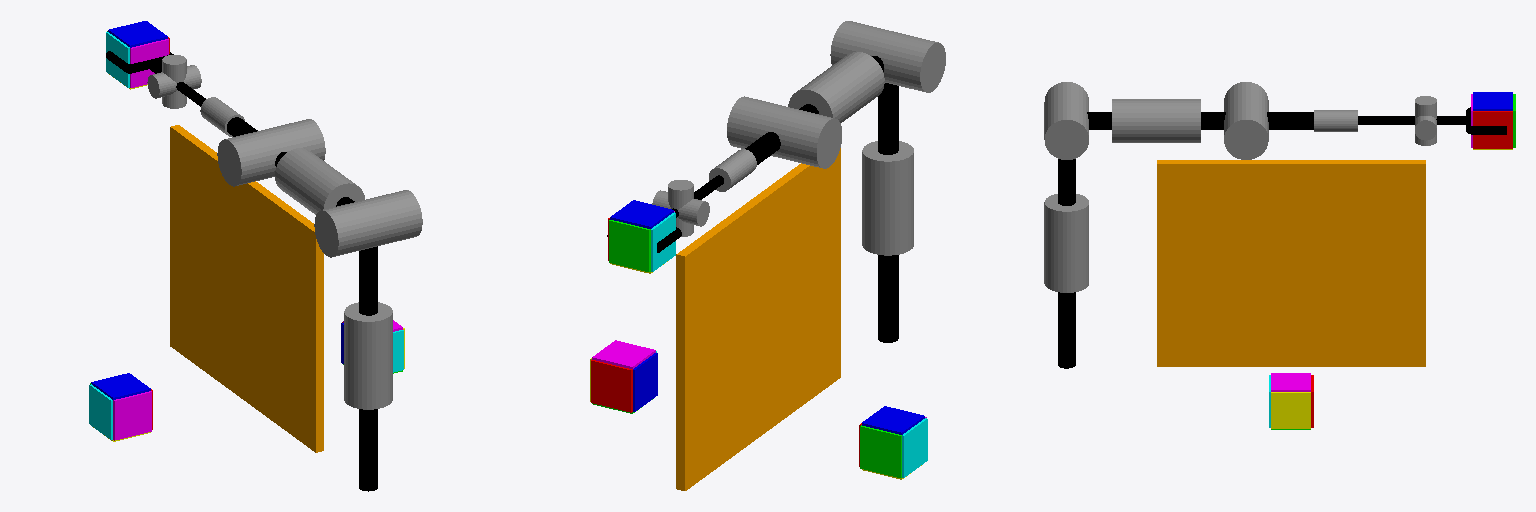
--- What the picture shows (computed from the rendered views, not written in the file) ---
Views: 3 orthographic renders of the robot side by side, from view 1: azimuth 30°, elevation 25°; view 2: azimuth 150°, elevation 25°; view 3: azimuth 270°, elevation 25°.
Robot: sevenDOF — 51 links, 50 joints (7 continuous, 43 fixed); root link world; default pose: every joint at zero.
Links seen in each view (by area): view 1: wall, motor2, motor1, motor4, motor3, rcub-ym, mount1, mount2, rcub-xm, cube-ym, rcub-zp, cube-zp (+4 smaller); view 2: wall, motor1, motor4, motor2, motor3, lcub-xp, rcub-yp, cube-yp, mount1, mount2, rcub-xm, lcub-zp (+8 smaller); view 3: wall, motor1, motor3, motor2, motor4, lcub-zm, mount1, cube-xp, motor5, mount5, mount2, cube-zp (+2 smaller).
Link boxes in pixels (bbox=[...]): wall: bbox=[170, 125, 323, 452]; motor2: bbox=[314, 190, 422, 257]; motor1: bbox=[344, 302, 392, 409]; motor4: bbox=[217, 119, 325, 186]; motor3: bbox=[275, 148, 364, 214]; rcub-ym: bbox=[113, 391, 151, 440]; mount1: bbox=[359, 409, 377, 491]; mount2: bbox=[359, 246, 377, 315]; rcub-xm: bbox=[89, 384, 112, 439]; cube-ym: bbox=[130, 39, 168, 87]; rcub-zp: bbox=[91, 373, 150, 399]; cube-zp: bbox=[108, 21, 167, 47]; wall: bbox=[676, 148, 840, 490]; motor1: bbox=[862, 141, 913, 255]; motor4: bbox=[727, 96, 841, 168]; motor2: bbox=[830, 21, 945, 92]; motor3: bbox=[788, 52, 884, 122]; lcub-xp: bbox=[591, 360, 632, 412]; rcub-yp: bbox=[860, 425, 901, 477]; cube-yp: bbox=[609, 220, 650, 271]; mount1: bbox=[878, 255, 898, 342]; mount2: bbox=[878, 83, 898, 154]; rcub-xm: bbox=[902, 418, 927, 477]; lcub-zp: bbox=[633, 353, 657, 411]; wall: bbox=[1157, 160, 1425, 366]; motor1: bbox=[1044, 194, 1088, 292]; motor3: bbox=[1112, 99, 1200, 142]; motor2: bbox=[1044, 82, 1088, 159]; motor4: bbox=[1224, 82, 1268, 159]; lcub-zm: bbox=[1271, 392, 1310, 428]; mount1: bbox=[1058, 292, 1075, 368]; cube-xp: bbox=[1473, 111, 1512, 148]; motor5: bbox=[1314, 110, 1357, 131]; mount5: bbox=[1267, 112, 1313, 129]; mount2: bbox=[1058, 159, 1075, 205]; cube-zp: bbox=[1473, 92, 1512, 110].
Bounding box of the posed robot: 0.7002 × 1.05 × 0.6502 m (x, y, z).
Geometry: primitives only (box / cylinder / sphere), no mesh files.

The robot description file, URDF, robot "sevenDOF":
<?xml version="1.0"?>

<robot name="sevenDOF">
  
  <!-- *************************************************** -->
  <!-- ******************** Kinematics ******************* -->
  <!-- *************************************************** -->

  <link name="world"/>

  <joint name="theta1" type="continuous">
    <parent link="world"/>
    <child  link="link1"/>
    <origin xyz="0 0 0.6" rpy="0 0 0"/>
    <axis   xyz="0 0 1"/>
    <dynamics damping="0.5"/>
  </joint>

  <link name="link1"/>

  <joint name="theta2" type="continuous">
    <parent link="link1"/>
    <child  link="link2"/>
    <origin xyz="0 0 0" rpy="0 0 0"/>
    <axis   xyz="1 0 0"/>
    <dynamics damping="1.0"/>
  </joint>

  <link name="link2"/>

  <joint name="attach-shoulder" type="fixed">
    <parent link="link2"/>
    <child  link="shoulder"/>
  </joint>

  <link name="shoulder"/>

  <joint name="theta3" type="continuous">
    <parent link="link2"/>
    <child  link="link3"/>
    <origin xyz="0 0.4 0" rpy="0 0 0"/>
    <axis   xyz="0 1 0 "/>
    <dynamics damping="0.05"/>
  </joint>

  <link name="link3"/>

  <joint name="theta4" type="continuous">
    <parent link="link3"/>
    <child  link="link4"/>
    <origin xyz="0 0 0" rpy="0 0 0"/>
    <axis   xyz="1 0 0 "/>
    <dynamics damping="0.1"/>
  </joint>

  <link name="link4"/>

  <joint name="attach-elbow" type="fixed">
    <parent link="link4"/>
    <child  link="elbow"/>
  </joint>

  <link name="elbow"/>

  <joint name="theta5" type="continuous">
    <parent link="link4"/>
    <child  link="link5"/>
    <origin xyz="0 0.4 0" rpy="0 0 0"/>
    <axis   xyz="0 1 0"/>
    <dynamics damping="0.02"/>
  </joint>

  <link name="link5"/>

  <joint name="theta6" type="continuous">
    <parent link="link5"/>
    <child  link="link6"/>
    <origin xyz="0 0 0" rpy="0 0 0"/>
    <axis   xyz="0 0 1"/>
    <dynamics damping="0.02"/>
  </joint>

  <link name="link6"/>

  <joint name="theta7" type="continuous">
    <parent link="link6"/>
    <child  link="link7"/>
    <origin xyz="0 0 0" rpy="0 0 0"/>
    <axis   xyz="1 0 0"/>
    <dynamics damping="0.02"/>
  </joint>

  <link name="link7"/>

  <joint name="attach-wrist" type="fixed">
    <parent link="link7"/>
    <child  link="wrist"/>
  </joint>

  <link name="wrist"/>

  <joint name="final" type="fixed">
    <parent link="link7"/>
    <child  link="tip"/>
    <origin xyz="0 0.15 0" rpy="0 0 0"/>
  </joint>

  <link name="tip"/>


  <!-- *************************************************** -->
  <!-- ******************* RVIZ Colors ******************* -->
  <!-- *************************************************** -->

  <material name="white">    <color rgba="1.00 1.00 1.00 1"/>  </material>
  <material name="gray">     <color rgba="0.60 0.60 0.60 1"/>  </material>
  <material name="table">    <color rgba="0.85 0.77 0.77 1"/>  </material>
  <material name="black">    <color rgba="0.00 0.00 0.00 1"/>  </material>

  <material name="red">      <color rgba="1.00 0.00 0.00 1"/>  </material>
  <material name="green">    <color rgba="0.00 1.00 0.00 1"/>  </material>
  <material name="blue">     <color rgba="0.00 0.00 1.00 1"/>  </material>

  <material name="cyan">     <color rgba="0.00 1.00 1.00 1"/>  </material>
  <material name="magenta">  <color rgba="1.00 0.00 1.00 1"/>  </material>
  <material name="yellow">   <color rgba="1.00 1.00 0.00 1"/>  </material>

  <material name="orange">   <color rgba="1.00 0.65 0.00 1"/>  </material>


  <!-- *************************************************** -->
  <!-- ****** Building Blocks (Visual AND Inertial) ****** -->
  <!-- *************************************************** -->

  <!-- *** World-Fixed: Mount 1, Motor 1 *** -->

  <joint name="attach-mount1" type="fixed">
    <parent link="world"/>
    <child  link="mount1"/>
  </joint>
  <link name="mount1">
    <visual>
      <origin xyz="0 0 0.1" rpy="0 0 0"/>
      <geometry>
	<cylinder length="0.2" radius="0.02"/>
      </geometry>
      <material name="black"/>
    </visual>
    <collision>
      <origin xyz="0 0 0.1" rpy="0 0 0"/>
      <geometry>
	<cylinder length="0.2" radius="0.02"/>
      </geometry>
    </collision>
    <inertial>
      <origin xyz="0 0 0.1" rpy="0 0 0"/>
      <mass value="0.2"/>
      <inertia
        ixx="0.000687" ixy="0.0" ixz="0.0"
        iyy="0.000687" iyz="0.0"
        izz="0.000040"/>
    </inertial>
  </link>

  <joint name="attach-motor1" type="fixed">
    <parent link="world"/>
    <child  link="motor1"/>
  </joint>
  <link name="motor1">
    <visual>
      <origin xyz="0 0 0.3" rpy="0 0 0"/>
      <geometry>
	<cylinder length="0.2" radius="0.05"/>
      </geometry>
      <material name="gray"/>
    </visual>
    <collision>
      <origin xyz="0 0 0.3" rpy="0 0 0"/>
      <geometry>
	<cylinder length="0.2" radius="0.05"/>
      </geometry>
    </collision>
    <inertial>
      <origin xyz="0 0 0.3" rpy="0 0 0"/>
      <mass value="2.0"/>
      <inertia
        ixx="0.007917" ixy="0.0" ixz="0.0"
        iyy="0.007917" iyz="0.0"
        izz="0.002500"/>
    </inertial>
  </link>

  <!-- *** Motor 1 Output: Mount 2, Motor 2 *** -->

  <joint name="attach-mount2" type="fixed">
    <parent link="link1"/>
    <child  link="mount2"/>
  </joint>
  <link name="mount2">
    <visual>
      <origin xyz="0 0 -0.1" rpy="0 0 0"/>
      <geometry>
	<cylinder length="0.2" radius="0.02"/>
      </geometry>
      <material name="black"/>
    </visual>
    <collision>
      <origin xyz="0 0 -0.1" rpy="0 0 0"/>
      <geometry>
	<cylinder length="0.2" radius="0.02"/>
      </geometry>
    </collision>
    <inertial>
      <origin xyz="0 0 -0.1" rpy="0 0 0"/>
      <mass value="0.2"/>
      <inertia
        ixx="0.000687" ixy="0.0" ixz="0.0"
        iyy="0.000687" iyz="0.0"
        izz="0.000040"/>
    </inertial>
  </link>

  <joint name="attach-motor2" type="fixed">
    <parent link="link1"/>
    <child  link="motor2"/>
  </joint>
  <link name="motor2">
    <visual>
      <origin xyz="0 0 0" rpy="0 1.5708 0"/>
      <geometry>
	<cylinder length="0.2" radius="0.05"/>
      </geometry>
      <material name="gray"/>
    </visual>
    <collision>
      <origin xyz="0 0 0" rpy="0 1.5708 0"/>
      <geometry>
	<cylinder length="0.2" radius="0.05"/>
      </geometry>
    </collision>
    <inertial>
      <origin xyz="0 0 0" rpy="0 1.5708 0"/>
      <mass value="2.0"/>
      <inertia
        ixx="0.007917" ixy="0.0" ixz="0.0"
        iyy="0.007917" iyz="0.0"
        izz="0.002500"/>
    </inertial>
  </link>

  <!-- *** Motor 2 Output: Mount 3, Motor 3 *** -->

  <joint name="attach-mount3" type="fixed">
    <parent link="link2"/>
    <child  link="mount3"/>
  </joint>
  <link name="mount3">
    <visual>
      <origin xyz="0 0.1 0" rpy="1.5708 0 0"/>
      <geometry>
	<cylinder length="0.2" radius="0.02"/>
      </geometry>
      <material name="black"/>
    </visual>
    <collision>
      <origin xyz="0 0.1 0" rpy="1.5708 0 0"/>
      <geometry>
	<cylinder length="0.2" radius="0.02"/>
      </geometry>
    </collision>
    <inertial>
      <origin xyz="0 0.1 0" rpy="1.5708 0 0"/>
      <mass value="0.2"/>
      <inertia
        ixx="0.000687" ixy="0.0" ixz="0.0"
        iyy="0.000687" iyz="0.0"
        izz="0.000040"/>
    </inertial>
  </link>

  <joint name="attach-motor3" type="fixed">
    <parent link="link2"/>
    <child  link="motor3"/>
  </joint>
  <link name="motor3">
    <visual>
      <origin xyz="0 0.2 0" rpy="1.5708 0 0"/>
      <geometry>
	<cylinder length="0.2" radius="0.05"/>
      </geometry>
      <material name="gray"/>
    </visual>
    <collision>
      <origin xyz="0 0.2 0" rpy="1.5708 0 0"/>
      <geometry>
	<cylinder length="0.2" radius="0.05"/>
      </geometry>
    </collision>
    <inertial>
      <origin xyz="0 0.2 0" rpy="1.5708 0 0"/>
      <mass value="2.0"/>
      <inertia
        ixx="0.007917" ixy="0.0" ixz="0.0"
        iyy="0.007917" iyz="0.0"
        izz="0.002500"/>
    </inertial>
  </link>

  <!-- *** Motor 3 Output: Mount 4, Motor 4 *** -->

  <joint name="attach-mount4" type="fixed">
    <parent link="link3"/>
    <child  link="mount4"/>
  </joint>
  <link name="mount4">
    <visual>
      <origin xyz="0 -0.1 0" rpy="1.5708 0 0"/>
      <geometry>
	<cylinder length="0.2" radius="0.02"/>
      </geometry>
      <material name="black"/>
    </visual>
    <collision>
      <origin xyz="0 -0.1 0" rpy="1.5708 0 0"/>
      <geometry>
	<cylinder length="0.2" radius="0.02"/>
      </geometry>
    </collision>
    <inertial>
      <origin xyz="0 -0.1 0" rpy="1.5708 0 0"/>
      <mass value="0.2"/>
      <inertia
        ixx="0.000687" ixy="0.0" ixz="0.0"
        iyy="0.000687" iyz="0.0"
        izz="0.000040"/>
    </inertial>
  </link>

  <joint name="attach-motor4" type="fixed">
    <parent link="link3"/>
    <child  link="motor4"/>
  </joint>
  <link name="motor4">
    <visual>
      <origin xyz="0 0 0" rpy="0 1.5708 0"/>
      <geometry>
	<cylinder length="0.2" radius="0.05"/>
      </geometry>
      <material name="gray"/>
    </visual>
    <collision>
      <origin xyz="0 0 0" rpy="0 1.5708 0"/>
      <geometry>
	<cylinder length="0.2" radius="0.05"/>
      </geometry>
    </collision>
    <inertial>
      <origin xyz="0 0 0" rpy="0 1.5708 0"/>
      <mass value="2.0"/>
      <inertia
        ixx="0.007917" ixy="0.0" ixz="0.0"
        iyy="0.007917" iyz="0.0"
        izz="0.002500"/>
    </inertial>
  </link>

  <!-- *** Motor 4 Output: Mount 5, Motor 5 *** -->

  <joint name="attach-mount5" type="fixed">
    <parent link="link4"/>
    <child  link="mount5"/>
  </joint>
  <link name="mount5">
    <visual>
      <origin xyz="0 0.1 0" rpy="1.5708 0 0"/>
      <geometry>
	<cylinder length="0.2" radius="0.02"/>
      </geometry>
      <material name="black"/>
    </visual>
    <collision>
      <origin xyz="0 0.1 0" rpy="1.5708 0 0"/>
      <geometry>
	<cylinder length="0.2" radius="0.02"/>
      </geometry>
    </collision>
    <inertial>
      <origin xyz="0 0.1 0" rpy="1.5708 0 0"/>
      <mass value="0.2"/>
      <inertia
        ixx="0.000687" ixy="0.0" ixz="0.0"
        iyy="0.000687" iyz="0.0"
        izz="0.000040"/>
    </inertial>
  </link>

  <joint name="attach-motor5" type="fixed">
    <parent link="link4"/>
    <child  link="motor5"/>
  </joint>
  <link name="motor5">
    <visual>
      <origin xyz="0 0.2 0" rpy="1.5708 0 0"/>
      <geometry>
	<cylinder length="0.1" radius="0.025"/>
      </geometry>
      <material name="gray"/>
    </visual>
    <collision>
      <origin xyz="0 0.2 0" rpy="1.5708 0 0"/>
      <geometry>
	<cylinder length="0.1" radius="0.025"/>
      </geometry>
    </collision>
    <inertial>
      <origin xyz="0 0.2 0" rpy="1.5708 0 0"/>
      <mass value="1.0"/>
      <inertia
        ixx="0.000990" ixy="0.0" ixz="0.0"
        iyy="0.000990" iyz="0.0"
        izz="0.000313"/>
    </inertial>
  </link>

  <!-- *** Motor 5 Output: Mount 6, Motor 6 *** -->

  <joint name="attach-mount6" type="fixed">
    <parent link="link5"/>
    <child  link="mount6"/>
  </joint>
  <link name="mount6">
    <visual>
      <origin xyz="0 -0.1 0" rpy="1.5708 0 0"/>
      <geometry>
	<cylinder length="0.2" radius="0.01"/>
      </geometry>
      <material name="black"/>
    </visual>
    <collision>
      <origin xyz="0 -0.1 0" rpy="1.5708 0 0"/>
      <geometry>
	<cylinder length="0.2" radius="0.01"/>
      </geometry>
    </collision>
    <inertial>
      <origin xyz="0 -0.1 0" rpy="1.5708 0 0"/>
      <mass value="0.1"/>
      <inertia
        ixx="0.000336" ixy="0.0" ixz="0.0"
        iyy="0.000336" iyz="0.0"
        izz="0.000005"/>
    </inertial>
  </link>

  <joint name="attach-motor6" type="fixed">
    <parent link="link5"/>
    <child  link="motor6"/>
  </joint>
  <link name="motor6">
    <visual>
      <origin xyz="0 0 0" rpy="0 0 0"/>
      <geometry>
	<cylinder length="0.1" radius="0.025"/>
      </geometry>
      <material name="gray"/>
    </visual>
    <collision>
      <origin xyz="0 0 0" rpy="0 0 0"/>
      <geometry>
	<cylinder length="0.1" radius="0.025"/>
      </geometry>
    </collision>
    <inertial>
      <origin xyz="0 0 0" rpy="0 0 0"/>
      <mass value="1.0"/>
      <inertia
        ixx="0.000990" ixy="0.0" ixz="0.0"
        iyy="0.000990" iyz="0.0"
        izz="0.000313"/>
    </inertial>
  </link>

  <!-- *** Motor 6 Output: Motor 7 *** -->

  <joint name="attach-motor7" type="fixed">
    <parent link="link6"/>
    <child  link="motor7"/>
  </joint>
  <link name="motor7">
    <visual>
      <origin xyz="0 0 0" rpy="0 1.5708 0"/>
      <geometry>
	<cylinder length="0.1" radius="0.025"/>
      </geometry>
      <material name="gray"/>
    </visual>
    <collision>
      <origin xyz="0 0 0" rpy="0 1.5708 0"/>
      <geometry>
	<cylinder length="0.1" radius="0.025"/>
      </geometry>
    </collision>
    <inertial>
      <origin xyz="0 0 0" rpy="0 1.5708 0"/>
      <mass value="1.0"/>
      <inertia
        ixx="0.000990" ixy="0.0" ixz="0.0"
        iyy="0.000990" iyz="0.0"
        izz="0.000313"/>
    </inertial>
  </link>

  <!-- *** Motor 7 Output: Base, Palm, Fingers *** -->

  <joint name="attach-handbase" type="fixed">
    <parent link="link7"/>
    <child  link="handbase"/>
  </joint>
  <link name="handbase">
    <visual>
      <origin xyz="0 0.05 0" rpy="1.5708 0 0"/>
      <geometry>
	<cylinder length="0.1" radius="0.01"/>
      </geometry>
      <material name="black"/>
    </visual>
    <collision>
      <origin xyz="0 0.05 0" rpy="1.5708 0 0"/>
      <geometry>
	<cylinder length="0.1" radius="0.01"/>
      </geometry>
    </collision>
    <inertial>
      <origin xyz="0 0.05 0" rpy="1.5708 0 0"/>
      <mass value="0.05"/>
      <inertia
        ixx="0.000043" ixy="0.0" ixz="0.0"
        iyy="0.000043" iyz="0.0"
        izz="0.000003"/>
    </inertial>
  </link>

  <joint name="attach-palm" type="fixed">
    <parent link="link7"/>
    <child  link="palm"/>
  </joint>
  <link name="palm">
    <visual>
      <origin xyz="0 0.1 0" rpy="0 1.5708 0"/>
      <geometry>
	<cylinder length="0.1" radius="0.01"/>
      </geometry>
      <material name="black"/>
    </visual>
    <inertial>
      <origin xyz="0 0.1 0" rpy="0 1.5708 0"/>
      <mass value="0.05"/>
      <inertia
        ixx="0.000043" ixy="0.0" ixz="0.0"
        iyy="0.000043" iyz="0.0"
        izz="0.000003"/>
    </inertial>
  </link>

  <joint name="attach-leftfinger" type="fixed">
    <parent link="link7"/>
    <child  link="leftfinger"/>
  </joint>
  <link name="leftfinger">
    <visual>
      <origin xyz="-0.05 0.14 0" rpy="1.5708 0 0"/>
      <geometry>
	<cylinder length="0.08" radius="0.01"/>
      </geometry>
      <material name="black"/>
    </visual>
    <inertial>
      <origin xyz="-0.05 0.14 0" rpy="1.5708 0 0"/>
      <mass value="0.05"/>
      <inertia
        ixx="0.000022" ixy="0.0" ixz="0.0"
        iyy="0.000022" iyz="0.0"
        izz="0.000002"/>
    </inertial>
  </link>

  <joint name="attach-rightfinger" type="fixed">
    <parent link="link7"/>
    <child  link="rightfinger"/>
  </joint>
  <link name="rightfinger">
    <visual>
      <origin xyz="0.05 0.14 0" rpy="1.5708 0 0"/>
      <geometry>
	<cylinder length="0.08" radius="0.01"/>
      </geometry>
      <material name="black"/>
    </visual>
    <inertial>
      <origin xyz="0.05 0.14 0" rpy="1.5708 0 0"/>
      <mass value="0.05"/>
      <inertia
        ixx="0.000022" ixy="0.0" ixz="0.0"
        iyy="0.000022" iyz="0.0"
        izz="0.000002"/>
    </inertial>
  </link>

  <!-- *** Cube: Six sides *** -->

  <joint name="attach-cube" type="fixed">
    <parent link="tip"/>
    <child  link="cube"/>
  </joint>
  <link name="cube">
    <collision>
      <origin xyz="0 0 0" rpy="0 0 0"/>
      <geometry>
	<box size="0.10 0.10 0.10"/>
      </geometry>
    </collision>
    <inertial>
      <origin xyz="0 0 0" rpy="0 0 0"/>
      <mass value="1.0"/>
      <inertia
        ixx="0.000120" ixy="0.0" ixz="0.0"
        iyy="0.000120" iyz="0.0"
        izz="0.000120"/>
    </inertial>
  </link>

  <joint name="attach-cube-xp" type="fixed">
    <parent link="cube"/>
    <child  link="cube-xp"/>
  </joint>
  <link name="cube-xp">
    <visual>
      <origin         xyz=" 0.04   0    0"    rpy="0 0 0"/>
      <geometry> <box size="0.0202 0.09 0.09"/> </geometry>
      <material name="red"/>
    </visual>
  </link>

  <joint name="attach-cube-xm" type="fixed">
    <parent link="cube"/>
    <child  link="cube-xm"/>
  </joint>
  <link name="cube-xm">
    <visual>
      <origin         xyz="-0.04   0    0"    rpy="0 0 0"/>
      <geometry> <box size="0.0202 0.09 0.09"/> </geometry>
      <material name="cyan"/>
    </visual>
  </link>

  <joint name="attach-cube-yp" type="fixed">
    <parent link="cube"/>
    <child  link="cube-yp"/>
  </joint>
  <link name="cube-yp">
    <visual>
      <origin         xyz=" 0    0.04   0"    rpy="0 0 0"/>
      <geometry> <box size="0.09 0.0202 0.09"/> </geometry>
      <material name="green"/>
    </visual>
  </link>

  <joint name="attach-cube-ym" type="fixed">
    <parent link="cube"/>
    <child  link="cube-ym"/>
  </joint>
  <link name="cube-ym">
    <visual>
      <origin         xyz=" 0   -0.04   0"    rpy="0 0 0"/>
      <geometry> <box size="0.09 0.0202 0.09"/> </geometry>
      <material name="magenta"/>
    </visual>
  </link>

  <joint name="attach-cube-zp" type="fixed">
    <parent link="cube"/>
    <child  link="cube-zp"/>
  </joint>
  <link name="cube-zp">
    <visual>
      <origin         xyz=" 0    0    0.04"   rpy="0 0 0"/>
      <geometry> <box size="0.09 0.09 0.0202"/> </geometry>
      <material name="blue"/>
    </visual>
  </link>

  <joint name="attach-cube-zm" type="fixed">
    <parent link="cube"/>
    <child  link="cube-zm"/>
  </joint>
  <link name="cube-zm">
    <visual>
      <origin         xyz=" 0    0   -0.04"   rpy="0 0 0"/>
      <geometry> <box size="0.09 0.09 0.0202"/> </geometry>
      <material name="yellow"/>
    </visual>
  </link>


  <!-- *************************************************** -->
  <!-- ********************* Obstacles ******************* -->
  <!-- *************************************************** -->

  <!-- *** Left Cube *** -->

  <joint name="attach-lcub" type="fixed">
    <parent link="world"/>
    <child  link="lcub"/>
    <origin xyz="0.30 0.50 0.05" rpy="-1.5708 0 1.5708"/>
  </joint>
  <link name="lcub">
    <collision>
      <origin xyz="0 0 0" rpy="0 0 0"/>
      <geometry>
	<box size="0.10 0.10 0.10"/>
      </geometry>
    </collision>
    <inertial>
      <origin xyz="0 0 0" rpy="0 0 0"/>
      <mass value="1.0"/>
      <inertia
        ixx="0.000120" ixy="0.0" ixz="0.0"
        iyy="0.000120" iyz="0.0"
        izz="0.000120"/>
    </inertial>
  </link>

  <joint name="attach-lcub-xp" type="fixed">
    <parent link="lcub"/>
    <child  link="lcub-xp"/>
  </joint>
  <link name="lcub-xp">
    <visual>
      <origin         xyz=" 0.04   0    0"    rpy="0 0 0"/>
      <geometry> <box size="0.0202 0.09 0.09"/> </geometry>
      <material name="red"/>
    </visual>
  </link>

  <joint name="attach-lcub-xm" type="fixed">
    <parent link="lcub"/>
    <child  link="lcub-xm"/>
  </joint>
  <link name="lcub-xm">
    <visual>
      <origin         xyz="-0.04   0    0"    rpy="0 0 0"/>
      <geometry> <box size="0.0202 0.09 0.09"/> </geometry>
      <material name="cyan"/>
    </visual>
  </link>

  <joint name="attach-lcub-yp" type="fixed">
    <parent link="lcub"/>
    <child  link="lcub-yp"/>
  </joint>
  <link name="lcub-yp">
    <visual>
      <origin         xyz=" 0    0.04   0"    rpy="0 0 0"/>
      <geometry> <box size="0.09 0.0202 0.09"/> </geometry>
      <material name="green"/>
    </visual>
  </link>

  <joint name="attach-lcub-ym" type="fixed">
    <parent link="lcub"/>
    <child  link="lcub-ym"/>
  </joint>
  <link name="lcub-ym">
    <visual>
      <origin         xyz=" 0   -0.04   0"    rpy="0 0 0"/>
      <geometry> <box size="0.09 0.0202 0.09"/> </geometry>
      <material name="magenta"/>
    </visual>
  </link>

  <joint name="attach-lcub-zp" type="fixed">
    <parent link="lcub"/>
    <child  link="lcub-zp"/>
  </joint>
  <link name="lcub-zp">
    <visual>
      <origin         xyz=" 0    0    0.04"   rpy="0 0 0"/>
      <geometry> <box size="0.09 0.09 0.0202"/> </geometry>
      <material name="blue"/>
    </visual>
  </link>

  <joint name="attach-lcub-zm" type="fixed">
    <parent link="lcub"/>
    <child  link="lcub-zm"/>
  </joint>
  <link name="lcub-zm">
    <visual>
      <origin         xyz=" 0    0   -0.04"   rpy="0 0 0"/>
      <geometry> <box size="0.09 0.09 0.0202"/> </geometry>
      <material name="yellow"/>
    </visual>
  </link>

  <!-- *** Right Cube *** -->

  <joint name="attach-rcub" type="fixed">
    <parent link="world"/>
    <child  link="rcub"/>
    <origin xyz="-0.30 0.50 0.05" rpy="0 0 0"/>
  </joint>
  <link name="rcub">
    <collision>
      <origin xyz="0 0 0" rpy="0 0 0"/>
      <geometry>
	<box size="0.10 0.10 0.10"/>
      </geometry>
    </collision>
    <inertial>
      <origin xyz="0 0 0" rpy="0 0 0"/>
      <mass value="1.0"/>
      <inertia
        ixx="0.000120" ixy="0.0" ixz="0.0"
        iyy="0.000120" iyz="0.0"
        izz="0.000120"/>
    </inertial>
  </link>

  <joint name="attach-rcub-xp" type="fixed">
    <parent link="rcub"/>
    <child  link="rcub-xp"/>
  </joint>
  <link name="rcub-xp">
    <visual>
      <origin         xyz=" 0.04   0    0"    rpy="0 0 0"/>
      <geometry> <box size="0.0202 0.09 0.09"/> </geometry>
      <material name="red"/>
    </visual>
  </link>

  <joint name="attach-rcub-xm" type="fixed">
    <parent link="rcub"/>
    <child  link="rcub-xm"/>
  </joint>
  <link name="rcub-xm">
    <visual>
      <origin         xyz="-0.04   0    0"    rpy="0 0 0"/>
      <geometry> <box size="0.0202 0.09 0.09"/> </geometry>
      <material name="cyan"/>
    </visual>
  </link>

  <joint name="attach-rcub-yp" type="fixed">
    <parent link="rcub"/>
    <child  link="rcub-yp"/>
  </joint>
  <link name="rcub-yp">
    <visual>
      <origin         xyz=" 0    0.04   0"    rpy="0 0 0"/>
      <geometry> <box size="0.09 0.0202 0.09"/> </geometry>
      <material name="green"/>
    </visual>
  </link>

  <joint name="attach-rcub-ym" type="fixed">
    <parent link="rcub"/>
    <child  link="rcub-ym"/>
  </joint>
  <link name="rcub-ym">
    <visual>
      <origin         xyz=" 0   -0.04   0"    rpy="0 0 0"/>
      <geometry> <box size="0.09 0.0202 0.09"/> </geometry>
      <material name="magenta"/>
    </visual>
  </link>

  <joint name="attach-rcub-zp" type="fixed">
    <parent link="rcub"/>
    <child  link="rcub-zp"/>
  </joint>
  <link name="rcub-zp">
    <visual>
      <origin         xyz=" 0    0    0.04"   rpy="0 0 0"/>
      <geometry> <box size="0.09 0.09 0.0202"/> </geometry>
      <material name="blue"/>
    </visual>
  </link>

  <joint name="attach-rcub-zm" type="fixed">
    <parent link="rcub"/>
    <child  link="rcub-zm"/>
  </joint>
  <link name="rcub-zm">
    <visual>
      <origin         xyz=" 0    0   -0.04"   rpy="0 0 0"/>
      <geometry> <box size="0.09 0.09 0.0202"/> </geometry>
      <material name="yellow"/>
    </visual>
  </link>

  <!-- *** Wall *** -->

  <joint name="attach-wall" type="fixed">
    <parent link="world"/>
    <child  link="wall"/>
    <origin xyz="0.00 0.50 0" rpy="0 0 0"/>
  </joint>
  <link name="wall">
    <visual>
      <origin          xyz="0.00 0.00 0.25" rpy="0 0 0"/>
      <geometry> <box size="0.02 0.60 0.50"/> </geometry>
      <material name="orange"/>
    </visual>
    <collision>
      <origin          xyz="0.00 0.00 0.25" rpy="0 0 0"/>
      <geometry> <box size="0.02 0.60 0.50"/> </geometry>
    </collision>
  </link>


  <!-- *************************************************** -->
  <!-- ******************* Gazebo Colors ***************** -->
  <!-- *************************************************** -->

  <gazebo reference="motor1"> <material>Gazebo/Gray</material>  </gazebo>
  <gazebo reference="motor2"> <material>Gazebo/Gray</material>  </gazebo>
  <gazebo reference="motor3"> <material>Gazebo/Gray</material>  </gazebo>
  <gazebo reference="motor4"> <material>Gazebo/Gray</material>  </gazebo>
  <gazebo reference="motor5"> <material>Gazebo/Gray</material>  </gazebo>
  <gazebo reference="motor6"> <material>Gazebo/Gray</material>  </gazebo>
  <gazebo reference="motor7"> <material>Gazebo/Gray</material>  </gazebo>

  <gazebo reference="mount1">   <material>Gazebo/Black</material> </gazebo>
  <gazebo reference="mount2">   <material>Gazebo/Black</material> </gazebo>
  <gazebo reference="mount3">   <material>Gazebo/Black</material> </gazebo>
  <gazebo reference="mount4">   <material>Gazebo/Black</material> </gazebo>
  <gazebo reference="mount5">   <material>Gazebo/Black</material> </gazebo>
  <gazebo reference="mount6">   <material>Gazebo/Black</material> </gazebo>

  <gazebo reference="handbase">    <material>Gazebo/Black</material> </gazebo>
  <gazebo reference="palm">        <material>Gazebo/Black</material> </gazebo>
  <gazebo reference="leftfinger">  <material>Gazebo/Black</material> </gazebo>
  <gazebo reference="rightfinger"> <material>Gazebo/Black</material> </gazebo>

  <gazebo reference="cube-xp"> <material>Gazebo/Red</material>     </gazebo>
  <gazebo reference="cube-xm"> <material>Gazebo/Cyan</material>    </gazebo>
  <gazebo reference="cube-yp"> <material>Gazebo/Green</material>   </gazebo>
  <gazebo reference="cube-ym"> <material>Gazebo/Magenta</material> </gazebo>
  <gazebo reference="cube-zp"> <material>Gazebo/Blue</material>    </gazebo>
  <gazebo reference="cube-zm"> <material>Gazebo/Yellow</material>  </gazebo>

  <gazebo reference="lcub-xp"> <material>Gazebo/Red</material>     </gazebo>
  <gazebo reference="lcub-xm"> <material>Gazebo/Cyan</material>    </gazebo>
  <gazebo reference="lcub-yp"> <material>Gazebo/Green</material>   </gazebo>
  <gazebo reference="lcub-ym"> <material>Gazebo/Magenta</material> </gazebo>
  <gazebo reference="lcub-zp"> <material>Gazebo/Blue</material>    </gazebo>
  <gazebo reference="lcub-zm"> <material>Gazebo/Yellow</material>  </gazebo>

  <gazebo reference="rcub-xp"> <material>Gazebo/Red</material>     </gazebo>
  <gazebo reference="rcub-xm"> <material>Gazebo/Cyan</material>    </gazebo>
  <gazebo reference="rcub-yp"> <material>Gazebo/Green</material>   </gazebo>
  <gazebo reference="rcub-ym"> <material>Gazebo/Magenta</material> </gazebo>
  <gazebo reference="rcub-zp"> <material>Gazebo/Blue</material>    </gazebo>
  <gazebo reference="rcub-zm"> <material>Gazebo/Yellow</material>  </gazebo>

  <gazebo reference="wall">    <material>Gazebo/Orange</material>  </gazebo>

</robot>
